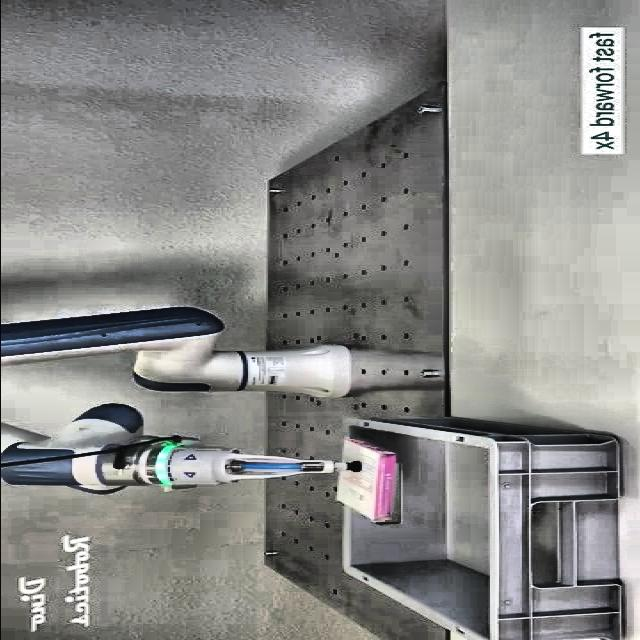robot: (0, 306, 362, 496)
